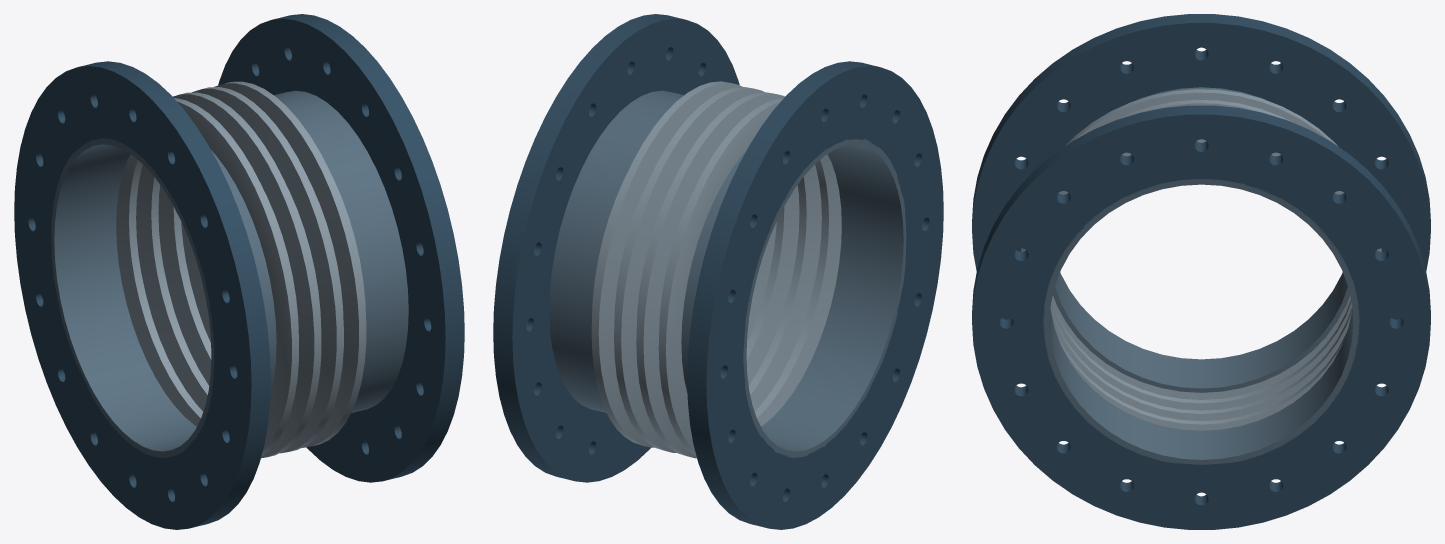
The model's file is flan-dn500-L440-D585-f-o710.glb.
3 renders of one model, left to right at view 1: azimuth 30°, elevation 25°; view 2: azimuth 150°, elevation 25°; view 3: azimuth 270°, elevation 25°, orthographic. The views are drawn at different scales.
Parts seen in each view (by area): view 1: homut_flanec_1, prokladka_silfon_1, homut_flanec_2, patrubok_1, patrubok_2; view 2: homut_flanec_1, prokladka_silfon_1, homut_flanec_2, patrubok_1, patrubok_2; view 3: homut_flanec_2, homut_flanec_1, patrubok_2, prokladka_silfon_1, patrubok_1.
Part boxes in pixels (x1=…): homut_flanec_1: x1=14, y1=61, x2=270, y2=529; prokladka_silfon_1: x1=116, y1=81, x2=366, y2=458; homut_flanec_2: x1=218, y1=14, x2=464, y2=482; patrubok_1: x1=51, y1=138, x2=276, y2=457; patrubok_2: x1=274, y1=90, x2=408, y2=412; homut_flanec_1: x1=687, y1=61, x2=943, y2=529; prokladka_silfon_1: x1=591, y1=81, x2=841, y2=458; homut_flanec_2: x1=493, y1=14, x2=739, y2=482; patrubok_1: x1=681, y1=139, x2=906, y2=457; patrubok_2: x1=549, y1=90, x2=683, y2=412; homut_flanec_2: x1=972, y1=105, x2=1430, y2=529; homut_flanec_1: x1=972, y1=14, x2=1430, y2=319; patrubok_2: x1=1043, y1=179, x2=1359, y2=464; prokladka_silfon_1: x1=1021, y1=89, x2=1381, y2=430; patrubok_1: x1=1053, y1=87, x2=1349, y2=392.
Bounding box in the file's own units: 440 × 847 × 848.
